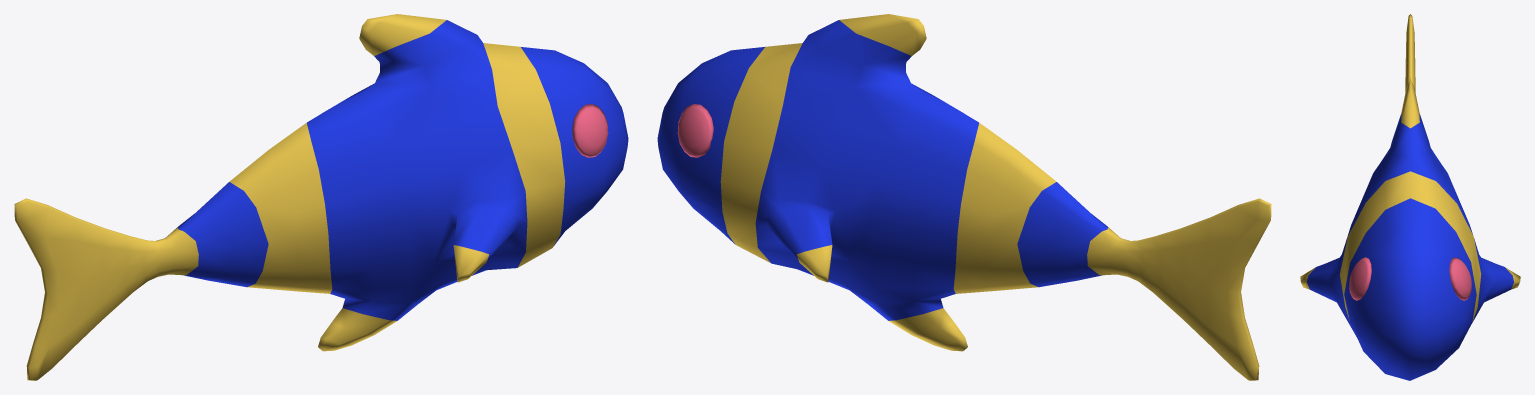
Rendered from Fish_Custom.fbx.
3 views of the same model, side by side, from view 1: azimuth 30°, elevation 25°; view 2: azimuth 150°, elevation 25°; view 3: azimuth 270°, elevation 25° (orthographic). The views are drawn at different scales.
Visible parts, largest first — view 1: Fish_Custom; view 2: Fish_Custom; view 3: Fish_Custom.
Part boxes in pixels (<box>): Fish_Custom: <box>14,14,628,380</box>; Fish_Custom: <box>657,14,1271,380</box>; Fish_Custom: <box>1300,14,1520,380</box>.
Bounding box in the file's own units: 10.13 × 5.13 × 3.66.
